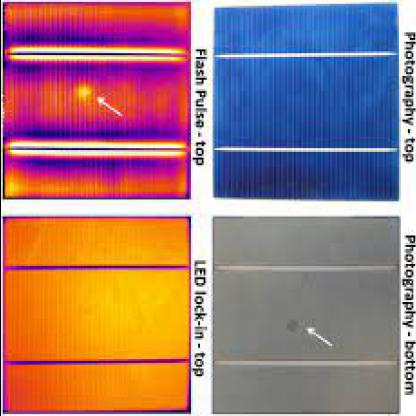Defects: (74, 82, 92, 102)
